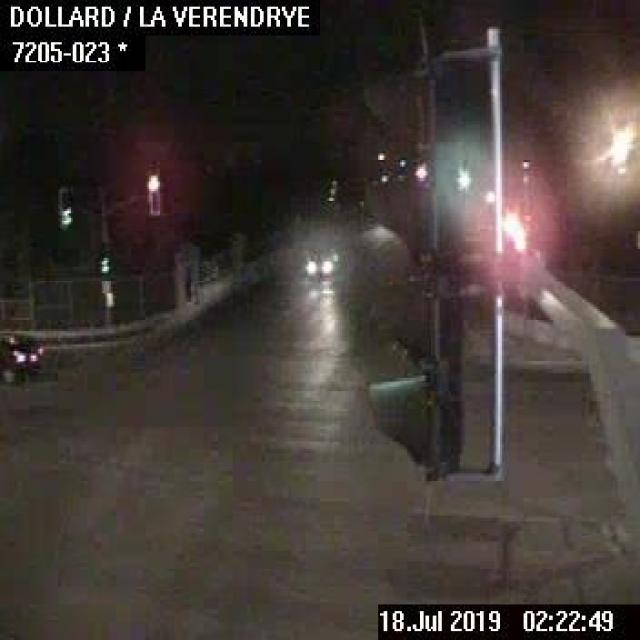vehicle: (0, 331, 44, 382), (302, 244, 334, 274)
